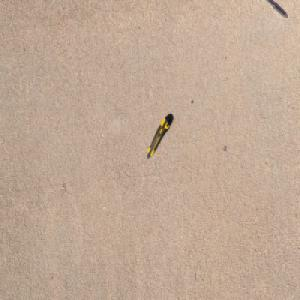Cutter: (146, 115, 171, 160)
